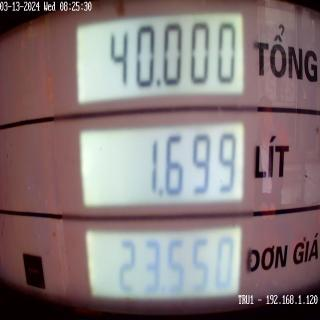screen: (68, 0, 253, 318)
